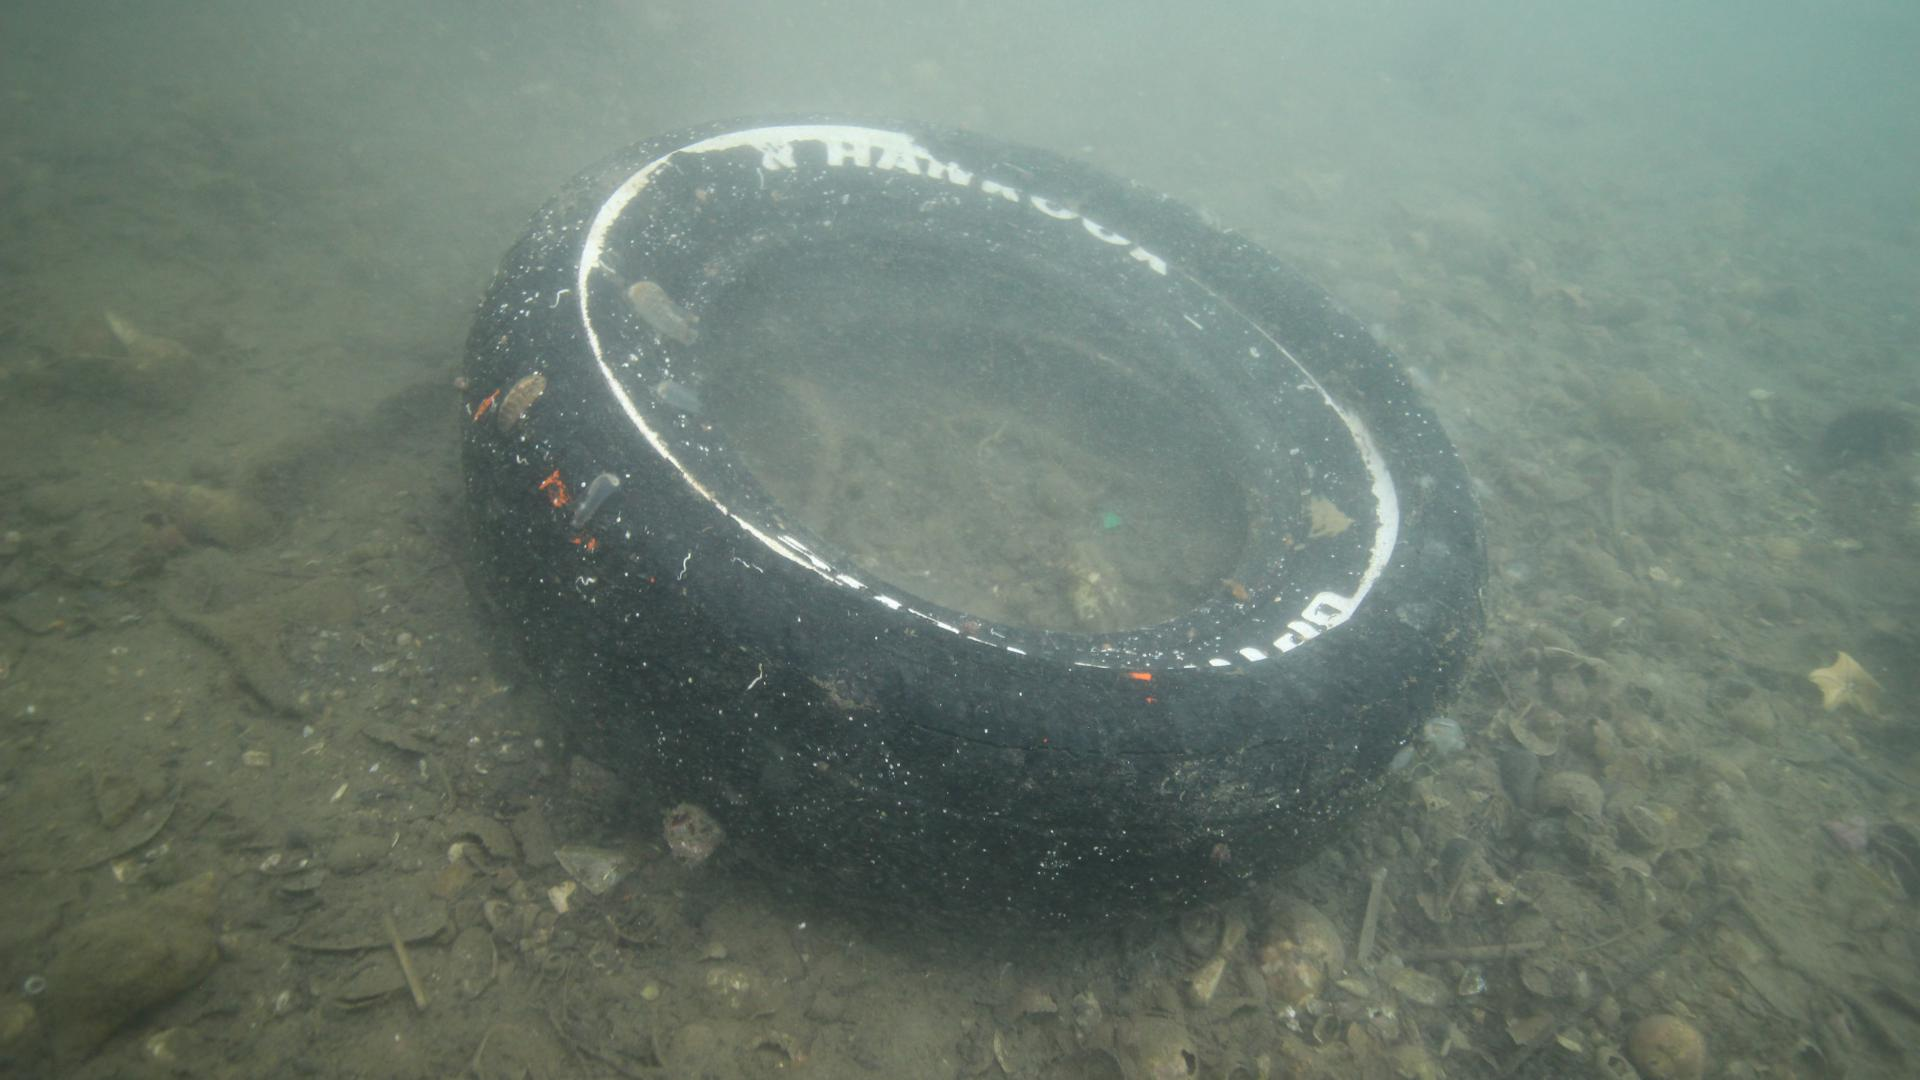tire: (459, 112, 1487, 931)
